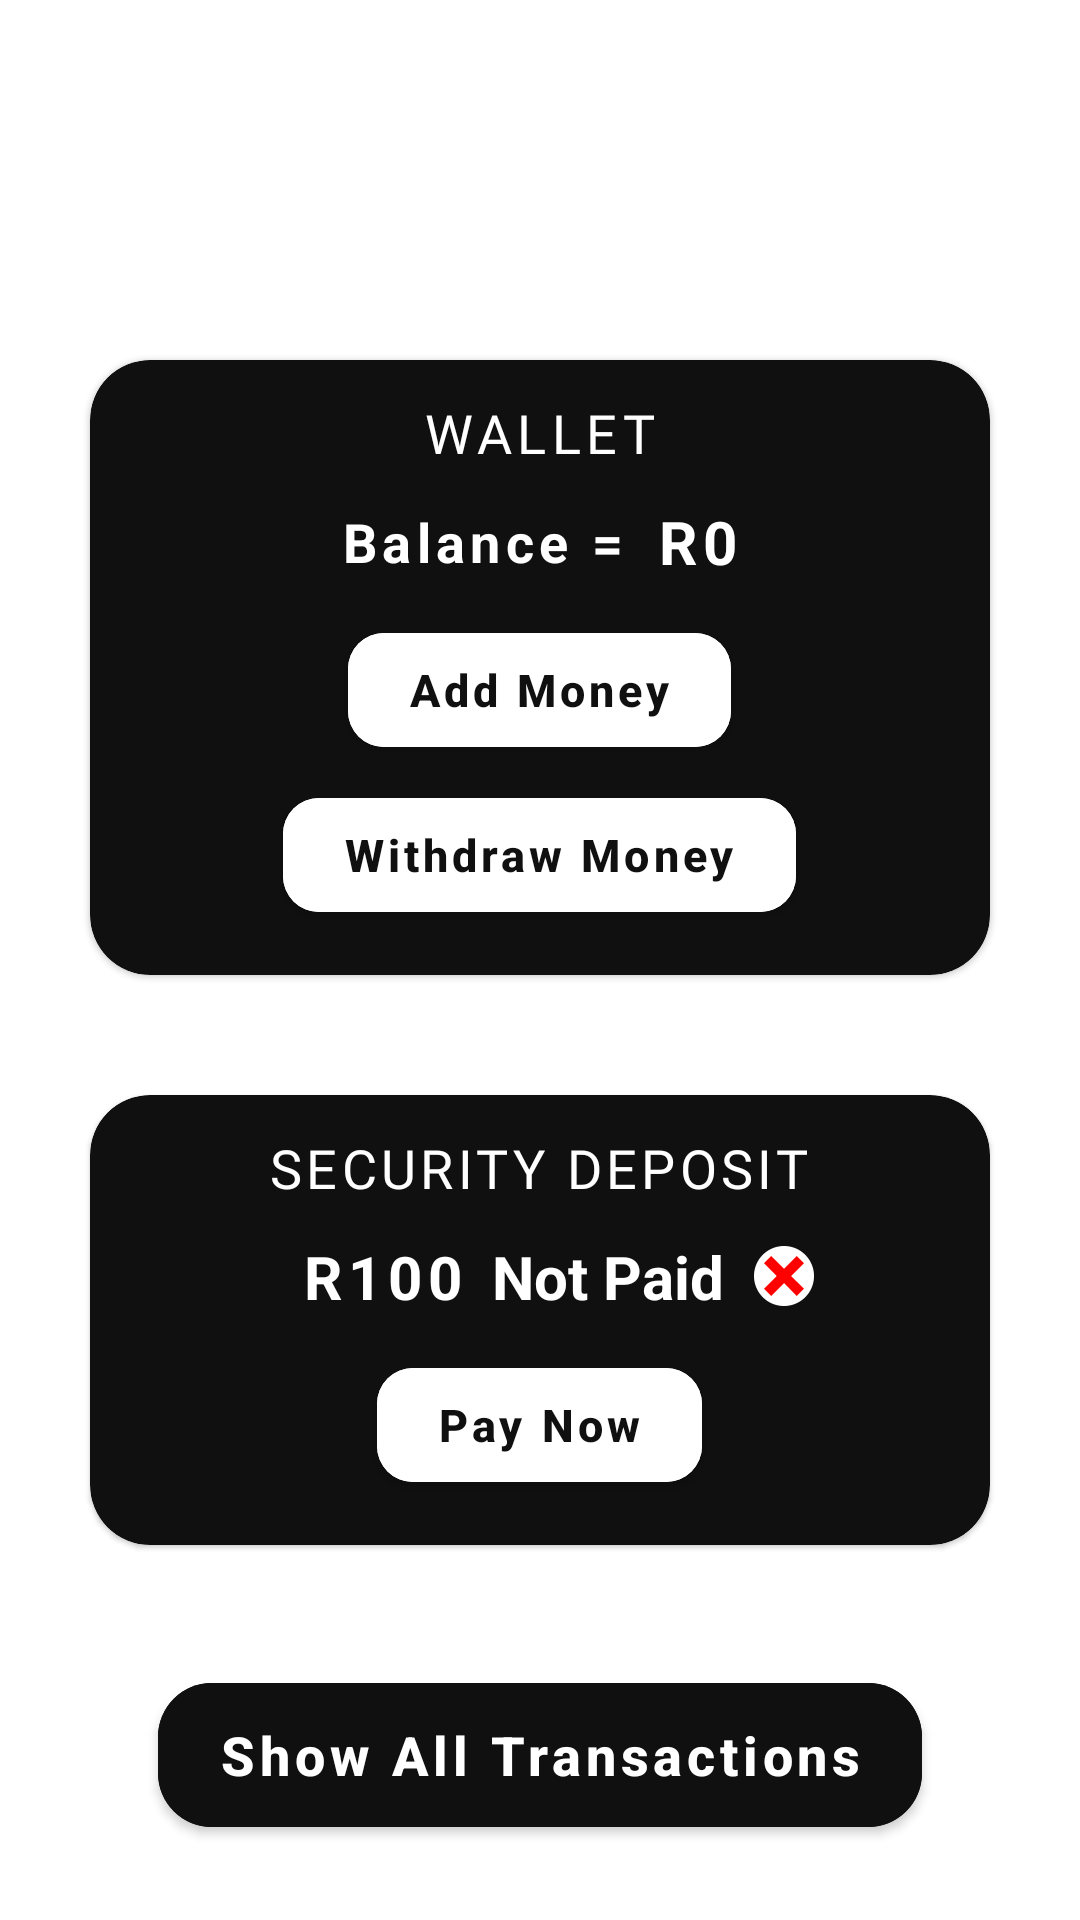

Icon bounding boxes for this 1080px x 1920px phone screenshot, format detection(x1, y1, x2, y2):
cancel: detection(754, 1246, 814, 1306)
